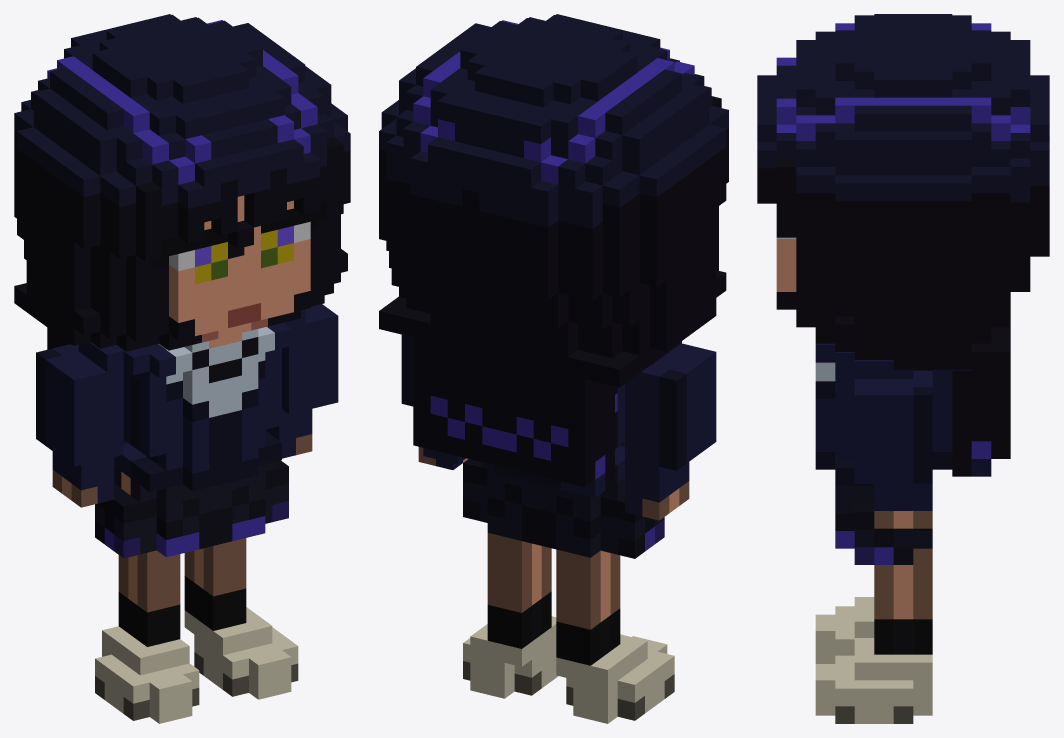
File: nyaan_voxel.glb
3 renders of one model, left to right at view 1: azimuth 30°, elevation 25°; view 2: azimuth 150°, elevation 25°; view 3: azimuth 270°, elevation 25°, orthographic. The views are drawn at different scales.
Parts seen in each view (by area): view 1: voxel; view 2: voxel; view 3: voxel.
Part boxes in pixels (bbox=[...]): voxel: bbox=[14, 14, 350, 723]; voxel: bbox=[379, 14, 728, 723]; voxel: bbox=[757, 14, 1049, 723].
Bounding box in the file's own units: 16 × 36 × 15.
